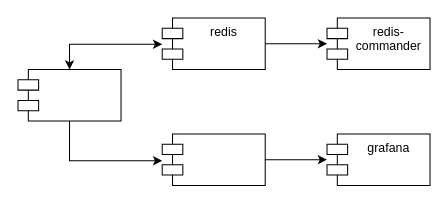
The diagram is 448 pixels wide and 204 high, and some of its shapes have lost their labels. The shapes that lost their labels are listed below. From the top down, each one's centre as x and y in pixels, then its label:
At pixel 69 94: "OscarRAGAI".
At pixel 213 159: "prometheus".
